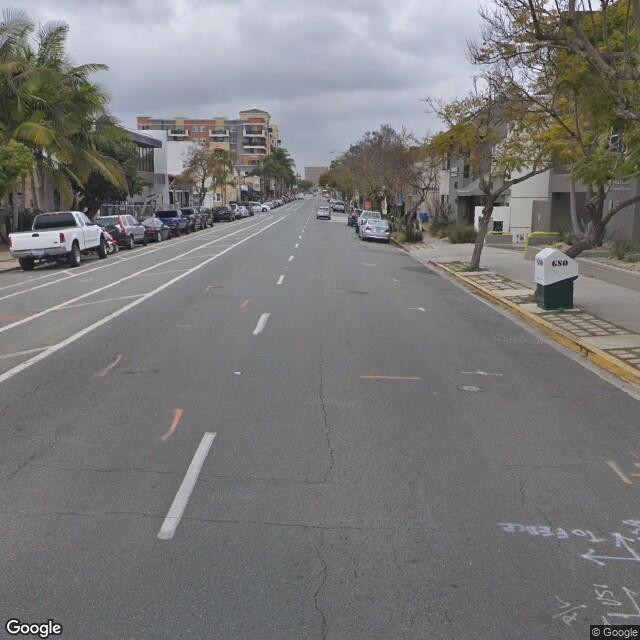road line: (146, 404, 239, 547), (254, 235, 305, 332)
